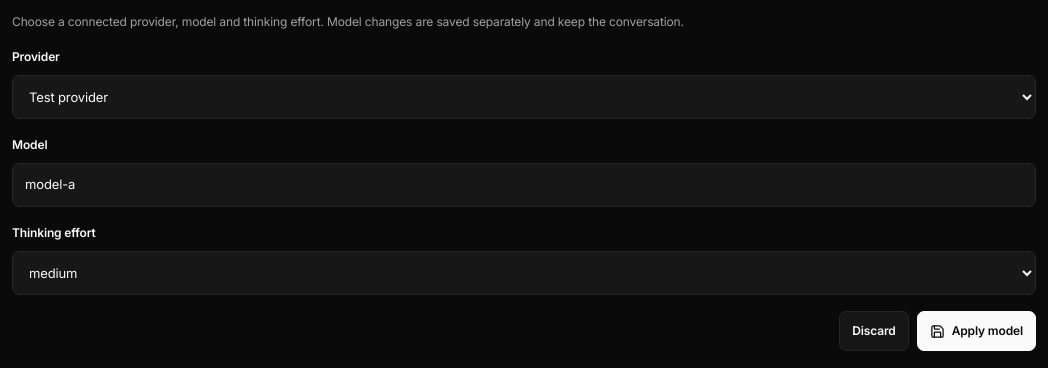
Test: model changes use the reseating route and preserve the saved account
Replace the text in the field labelled "Model" with "model-b" at x=524, y=185, box [12,163,1036,207]
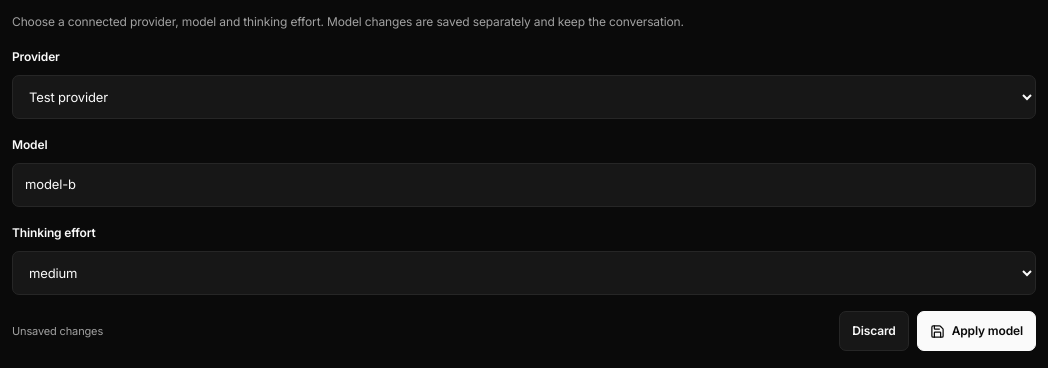
Click the button "Apply model".
click(976, 331)  # box [917,311,1036,351]
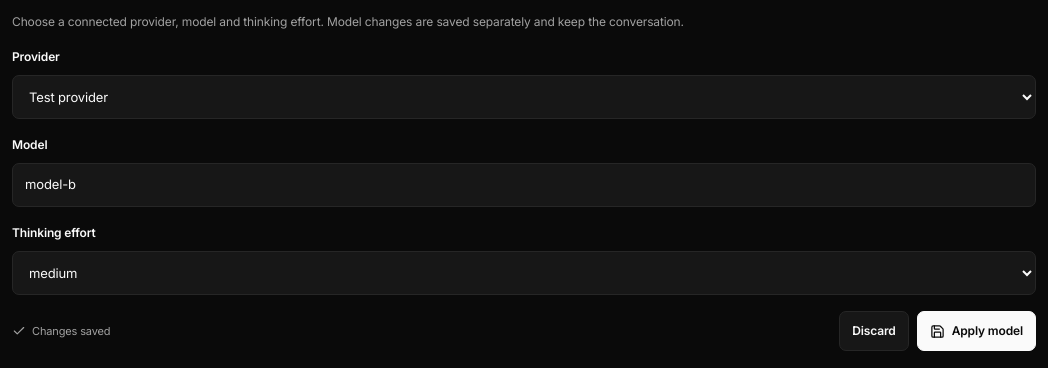
Now the text "Changes saved" is shown, box [12,321,110,341]
